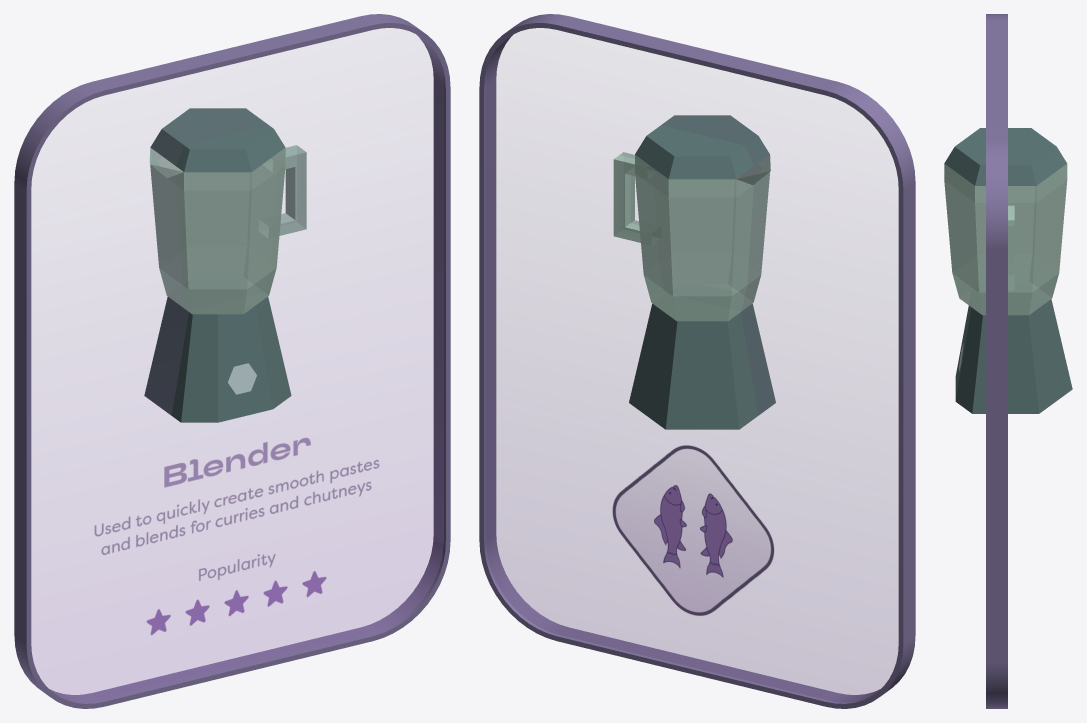
File: blender.glb
The picture shows the model from 3 angles, left to right: view 1: azimuth 30°, elevation 25°; view 2: azimuth 150°, elevation 25°; view 3: azimuth 270°, elevation 25°; orthographic projection. The views are drawn at different scales.
Visible parts, largest first — view 1: Bhai_Card.tex.025, kitchenBlender.003, Bhai_Card.out.025; view 2: Bhai_Card.tex.025, kitchenBlender.003, Bhai_Card.out.025; view 3: kitchenBlender.003, Bhai_Card.out.025.
Part boxes in pixels (<box>): Bhai_Card.tex.025: <box>31,165,443,701</box>; kitchenBlender.003: <box>144,108,306,422</box>; Bhai_Card.out.025: <box>14,14,450,708</box>; Bhai_Card.tex.025: <box>486,164,898,701</box>; kitchenBlender.003: <box>613,115,775,429</box>; Bhai_Card.out.025: <box>479,14,915,708</box>; kitchenBlender.003: <box>944,128,1072,413</box>; Bhai_Card.out.025: <box>986,14,1007,708</box>.
Bounding box in the file's own units: 1.81 × 2.51 × 0.5214.
6 materials, 2 textured.
